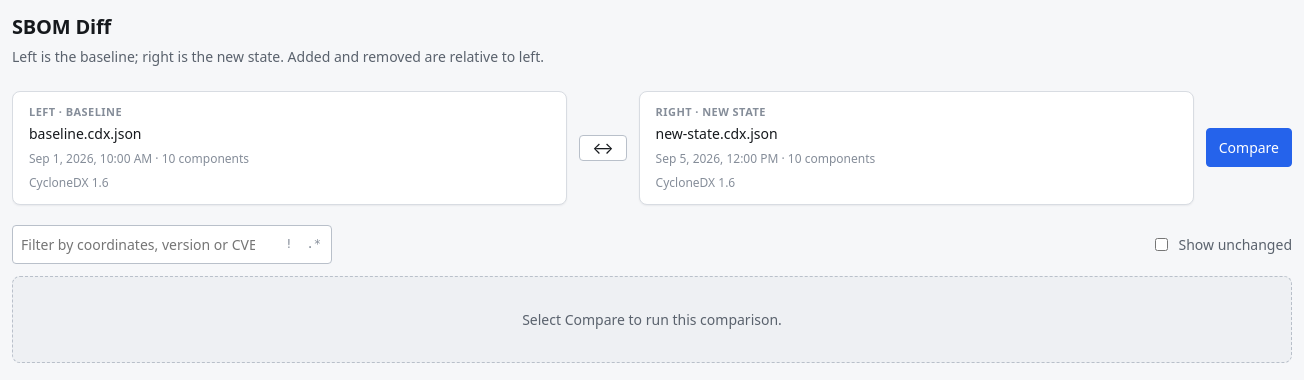
it: DiffPage › puts a rejected regular expression on the search field and keeps it out of page alerts
Click the button titled "Match as a regular expression" at (314, 244), box [300,234,327,254]
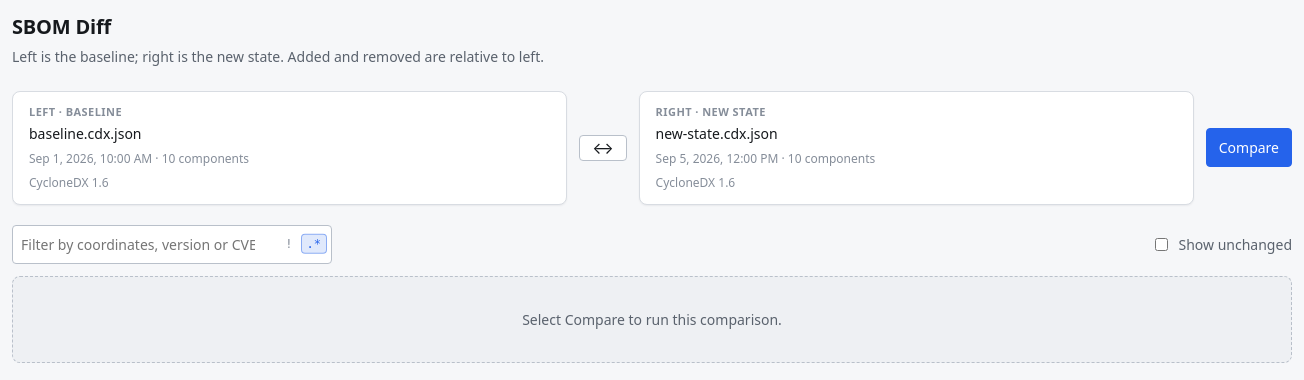
Type "(" into the search field at (172, 244), box [12,224,332,264]
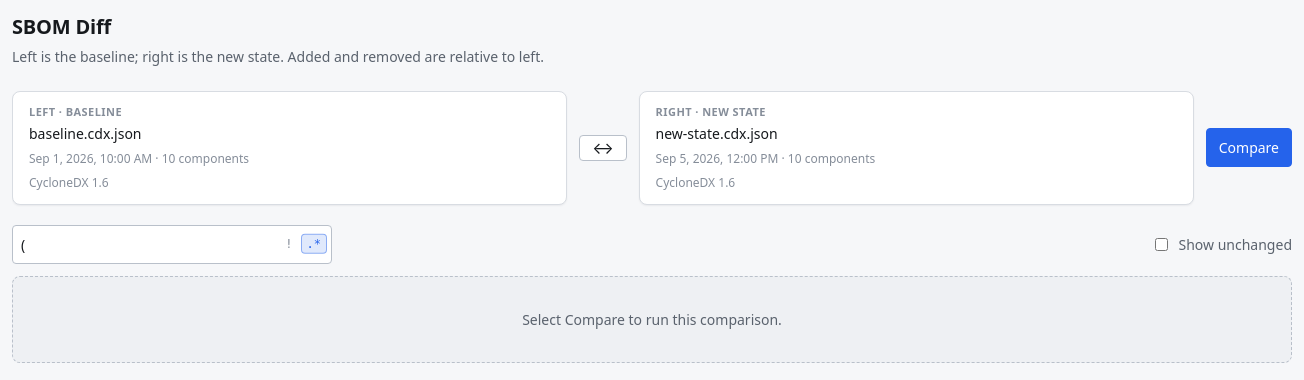
Click the button "Compare" at (1249, 148), box [1206,128,1292,167]
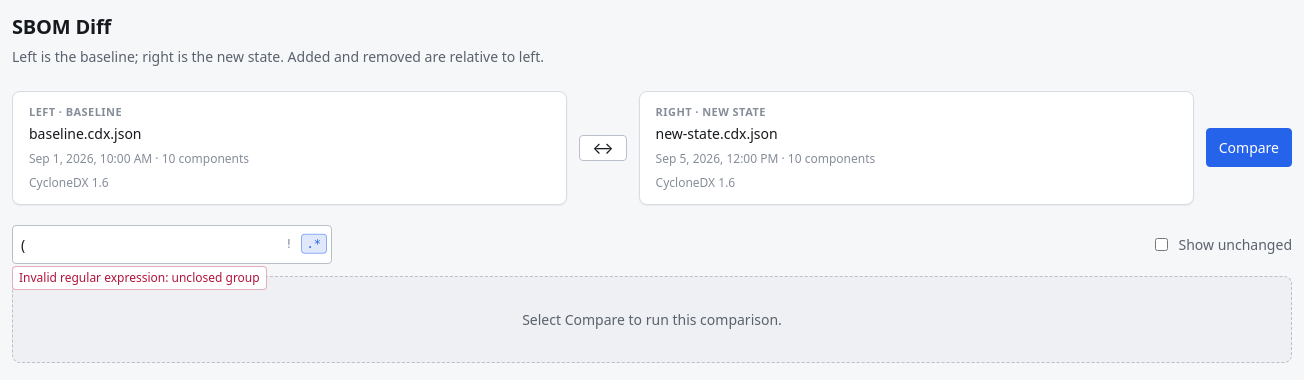
Now the text "Invalid regular expression: unclosed group" is shown, box [12,266,267,290]
